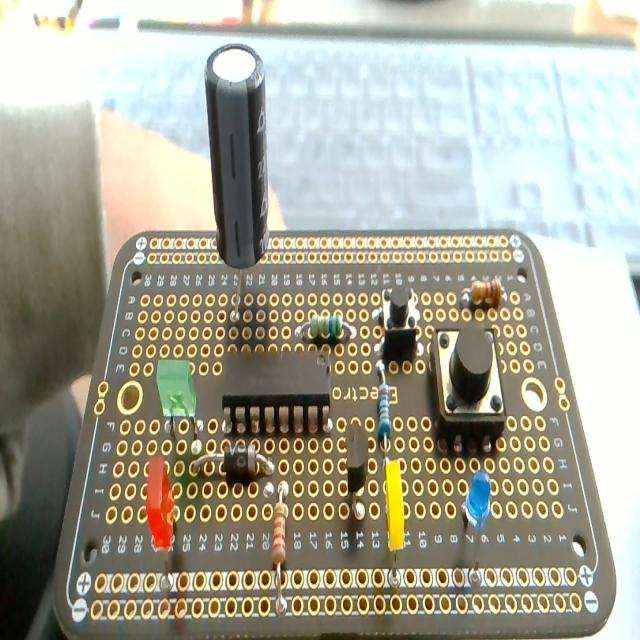Electrolytic capacitor: (206, 45, 270, 331)
IC: (218, 345, 340, 435)
diode: (194, 442, 276, 483)
led: (143, 447, 181, 589), (150, 352, 204, 441), (454, 469, 498, 564), (383, 454, 413, 590)
resistor: (302, 306, 350, 353), (272, 481, 288, 611), (376, 370, 394, 450), (463, 275, 503, 308)
switch: (430, 317, 509, 454), (375, 284, 422, 368)
transistor: (341, 412, 375, 530)
